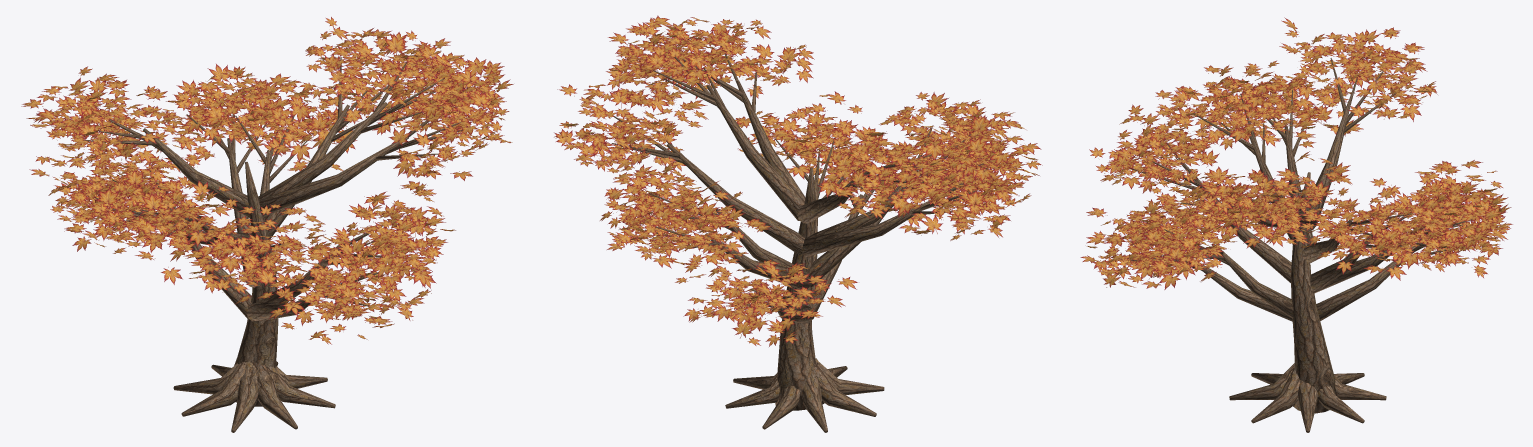
File: Maple_Crafted_2.fbx
The picture shows the model from 3 angles, left to right: view 1: azimuth 30°, elevation 25°; view 2: azimuth 150°, elevation 25°; view 3: azimuth 270°, elevation 25°; orthographic projection. The views are drawn at different scales.
Parts seen in each view (by area): view 1: Maple_Crafted_2_Leaves, Maple_Crafted_2_Wood; view 2: Maple_Crafted_2_Leaves, Maple_Crafted_2_Wood; view 3: Maple_Crafted_2_Leaves, Maple_Crafted_2_Wood.
Boxes of the visible parts, x1=… form: Maple_Crafted_2_Leaves: x1=21, y1=17, x2=513, y2=344; Maple_Crafted_2_Wood: x1=83, y1=57, x2=463, y2=432; Maple_Crafted_2_Leaves: x1=554, y1=15, x2=1042, y2=346; Maple_Crafted_2_Wood: x1=611, y1=46, x2=987, y2=432; Maple_Crafted_2_Leaves: x1=1080, y1=17, x2=1512, y2=289; Maple_Crafted_2_Wood: x1=1131, y1=58, x2=1471, y2=432.
Size of the model in its own units: 1236 by 887 by 1135.
